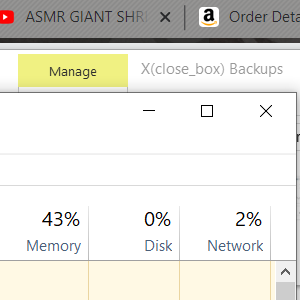close: (255, 100, 277, 123), (153, 8, 177, 26)
